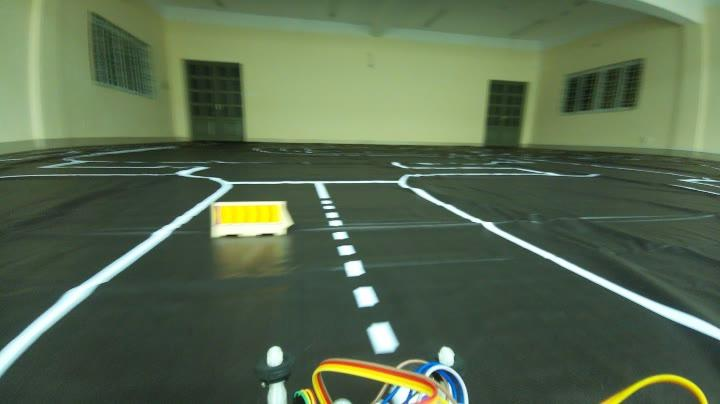roadblock: (206, 196, 298, 245)
